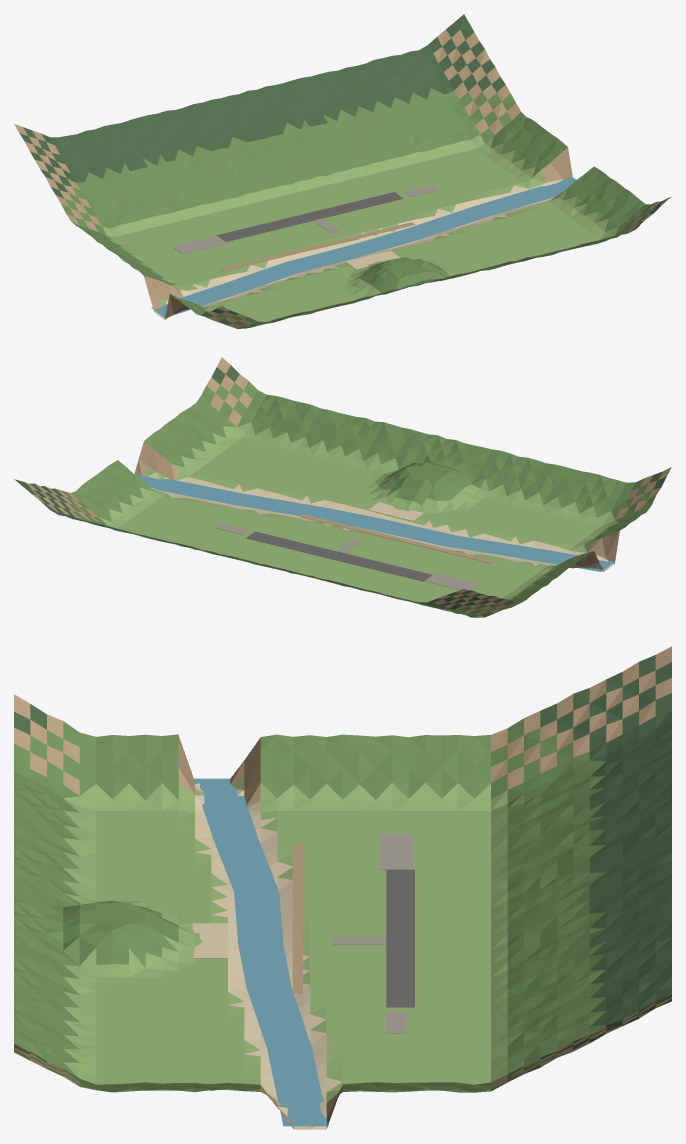
File: town_ground.fbx
3 renders of one model, top to bottom at view 1: azimuth 30°, elevation 25°; view 2: azimuth 150°, elevation 25°; view 3: azimuth 270°, elevation 25°, orthographic. The views are drawn at different scales.
Visible parts, largest first — view 1: terrain, river_water, road_main_street, path_riverside, road_station_plaza; view 2: terrain, river_water, road_main_street, path_riverside, road_festival_plaza, road_station_plaza; view 3: terrain, river_water, road_main_street, path_riverside, road_station_plaza, road_festival_plaza.
Part boxes in pixels (left/top/right/bottom): terrain: left=14, top=14, right=670, bottom=328; river_water: left=151, top=177, right=576, bottom=317; road_main_street: left=217, top=192, right=403, bottom=241; path_riverside: left=221, top=222, right=414, bottom=271; road_station_plaza: left=172, top=236, right=227, bottom=254; terrain: left=14, top=357, right=671, bottom=617; river_water: left=135, top=475, right=614, bottom=571; road_main_street: left=246, top=531, right=432, bottom=581; path_riverside: left=299, top=514, right=493, bottom=563; road_festival_plaza: left=368, top=502, right=423, bottom=521; road_station_plaza: left=424, top=573, right=479, bottom=590; terrain: left=14, top=646, right=671, bottom=1129; river_water: left=194, top=778, right=328, bottom=1126; road_main_street: left=386, top=869, right=414, bottom=1007; path_riverside: left=292, top=845, right=302, bottom=993; road_station_plaza: left=380, top=834, right=412, bottom=869; road_festival_plaza: left=192, top=923, right=227, bottom=958.
Size of the model in its own units: 200 by 36.4 by 160.
Materials: 1 (1 with a texture image).
